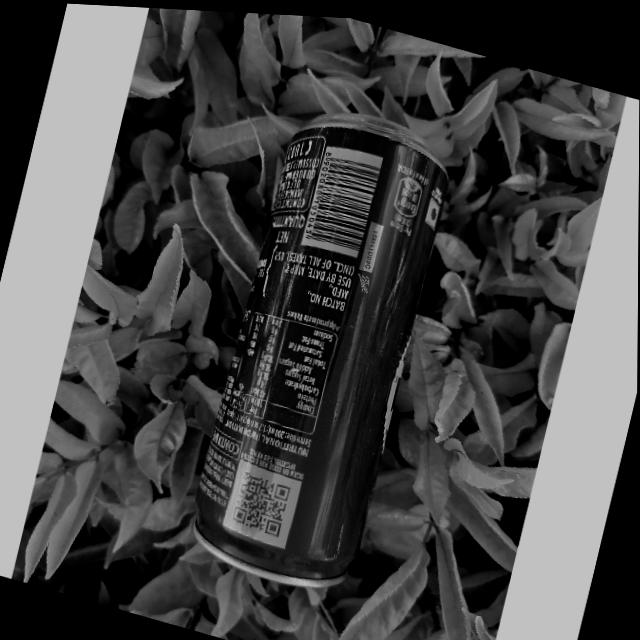Pepsi: (173, 88, 462, 606)
